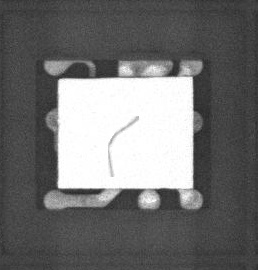DIE_INK: (103, 121, 132, 184)
